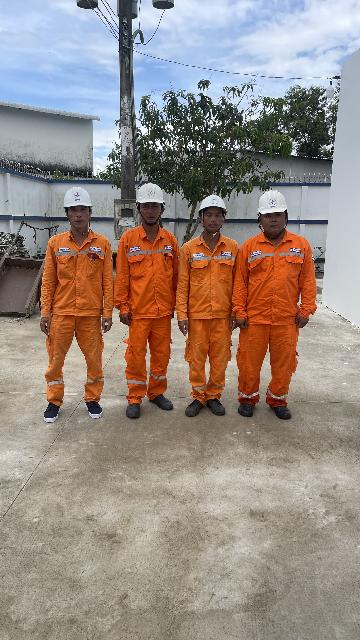helmet: (59, 184, 96, 213), (254, 192, 293, 216), (136, 182, 167, 208), (197, 196, 234, 212)
shoes: (266, 398, 298, 426), (83, 396, 109, 427), (152, 386, 175, 418), (121, 392, 143, 424), (46, 392, 60, 429), (237, 398, 255, 426), (183, 396, 201, 420), (210, 398, 228, 421)
